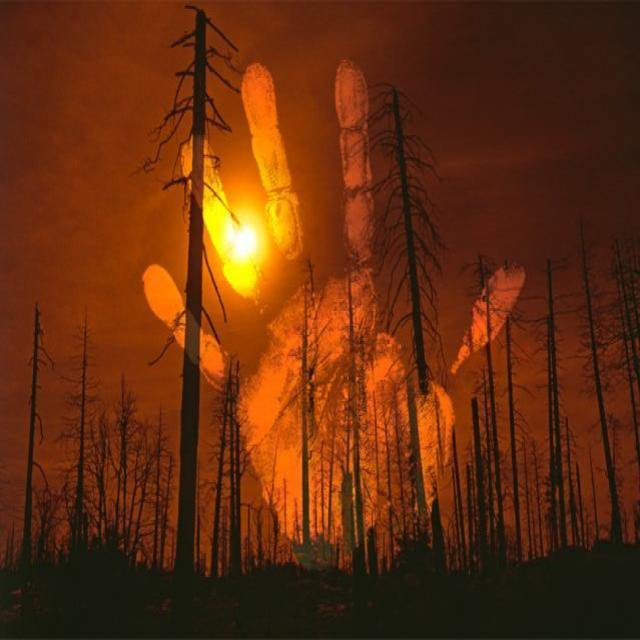Fire: (212, 200, 272, 270)
Smoke: (238, 290, 446, 542), (330, 59, 380, 273), (242, 67, 288, 192), (147, 257, 186, 346), (476, 261, 516, 345)
